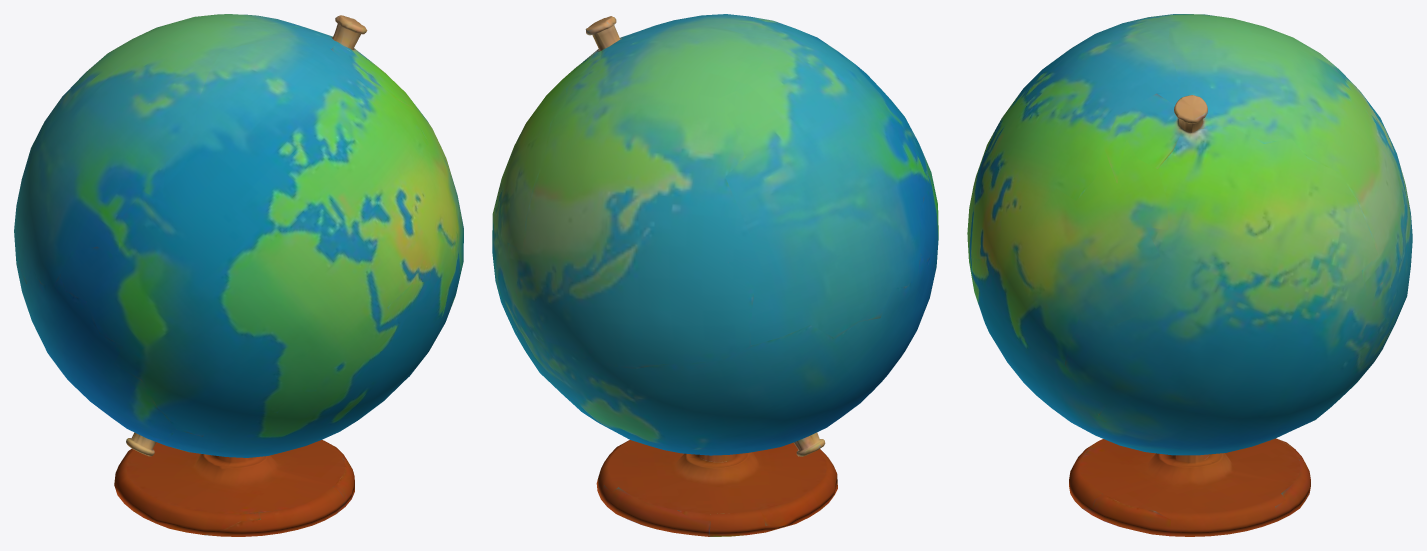
Rendered from globe.glb.
3 views of the same model, side by side, from view 1: azimuth 30°, elevation 25°; view 2: azimuth 150°, elevation 25°; view 3: azimuth 270°, elevation 25° (orthographic).
Bounding box in the file's own units: 0.8574 × 0.9507 × 0.8511.
Materials: 1 (1 with a texture image).
